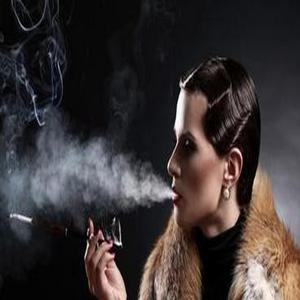cigarette: (6, 213, 34, 223)
